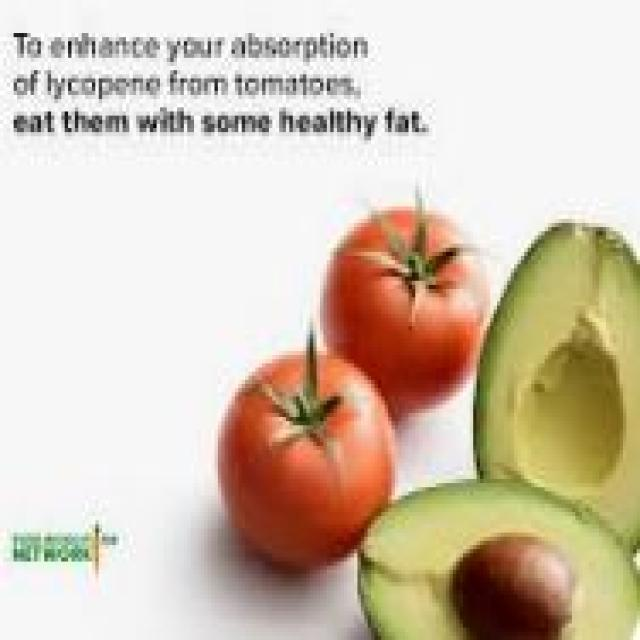Healthy: (209, 325, 414, 560), (324, 200, 483, 405)
